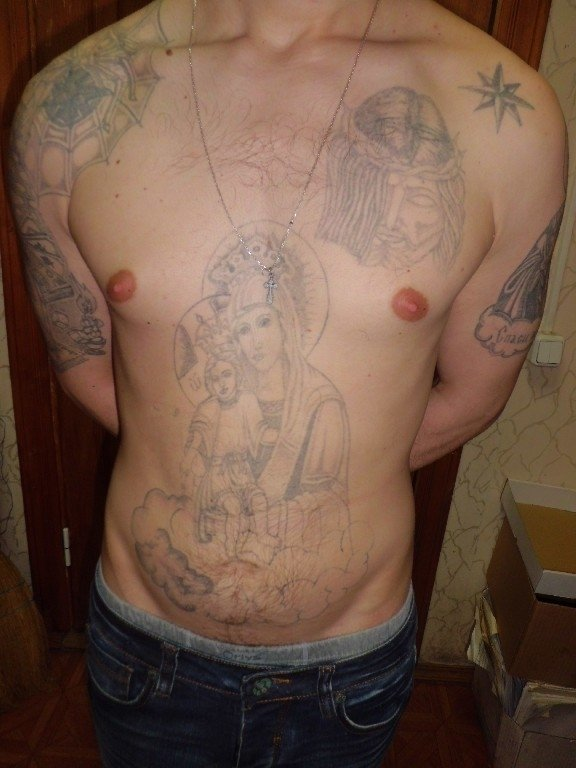tatu2_bogorodica: (127, 192, 377, 635)
tatu4_zvezda: (452, 56, 540, 142)
